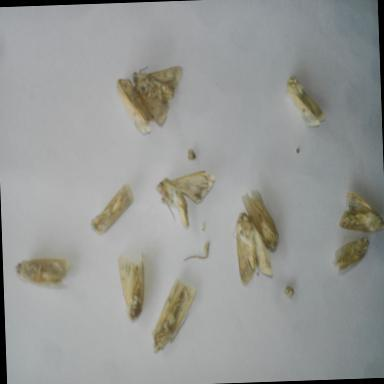abw: (150, 161, 218, 234), (145, 270, 201, 358), (125, 56, 188, 130), (228, 206, 278, 293), (112, 243, 154, 326), (86, 176, 142, 237), (237, 182, 283, 256), (112, 72, 156, 144), (284, 68, 330, 134), (9, 252, 74, 296), (333, 184, 384, 236), (328, 226, 373, 280)
